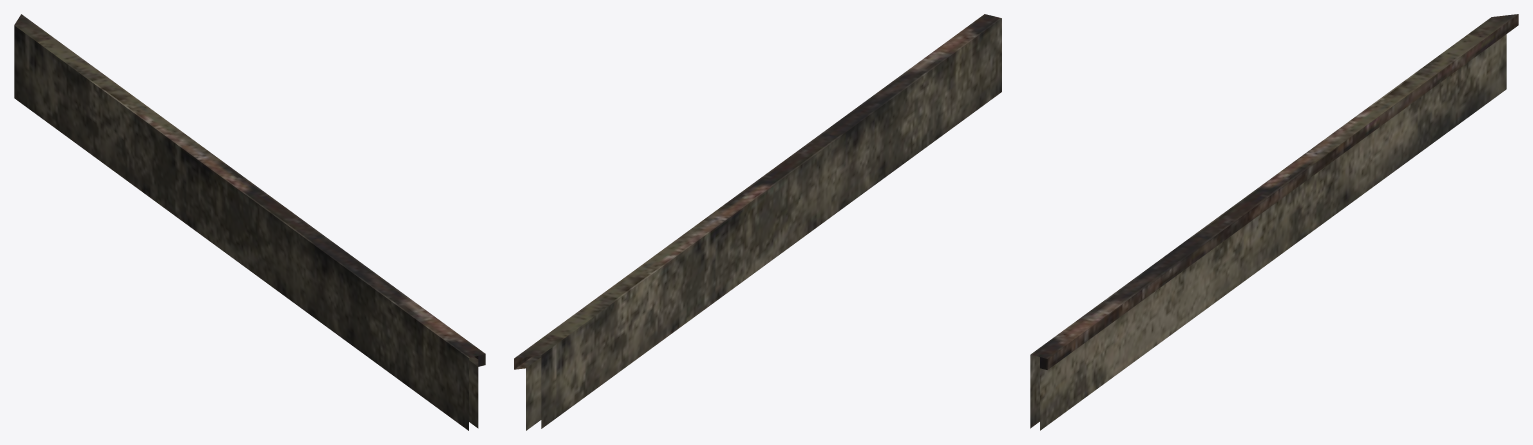
The model's file is Roof_Sidewall_04.FBX.
3 views of the same model, side by side, from view 1: azimuth 30°, elevation 25°; view 2: azimuth 150°, elevation 25°; view 3: azimuth 330°, elevation 25° (orthographic).
Parts seen in each view (by area): view 1: Roof_Sidewall_04; view 2: Roof_Sidewall_04; view 3: Roof_Sidewall_04.
Boxes of the visible parts, x1,y1,x2,y2 form: Roof_Sidewall_04: (14,14,485,430); Roof_Sidewall_04: (514,14,1001,430); Roof_Sidewall_04: (1030,14,1518,430).
Bounding box in the file's own units: 22.67 × 92.93 × 1073.
